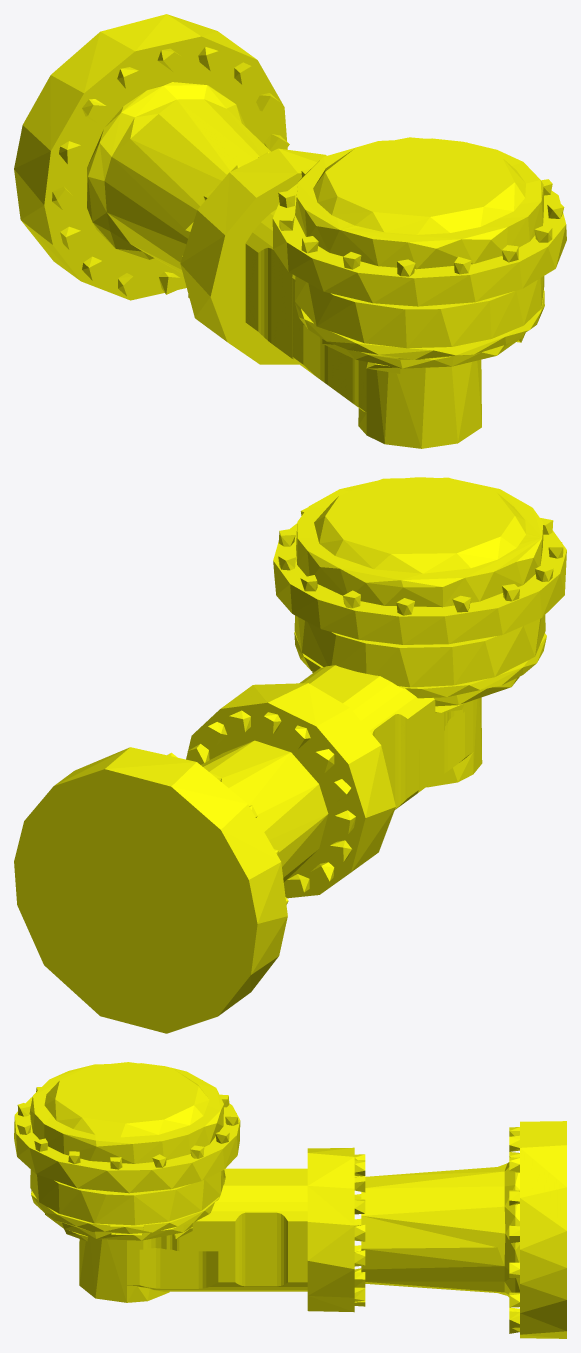
The picture shows the model from 3 angles, top to bottom: view 1: azimuth 30°, elevation 25°; view 2: azimuth 150°, elevation 25°; view 3: azimuth 270°, elevation 25°; orthographic projection. The views are drawn at different scales.
Visible parts, largest first — view 1: node; view 2: node; view 3: node.
Boxes of the visible parts, x1,y1,x2,y2 form: node: (14,14,566,448); node: (14,477,566,1033); node: (14,1062,566,1338).
Size of the model in its own units: 170 by 193 by 413.
